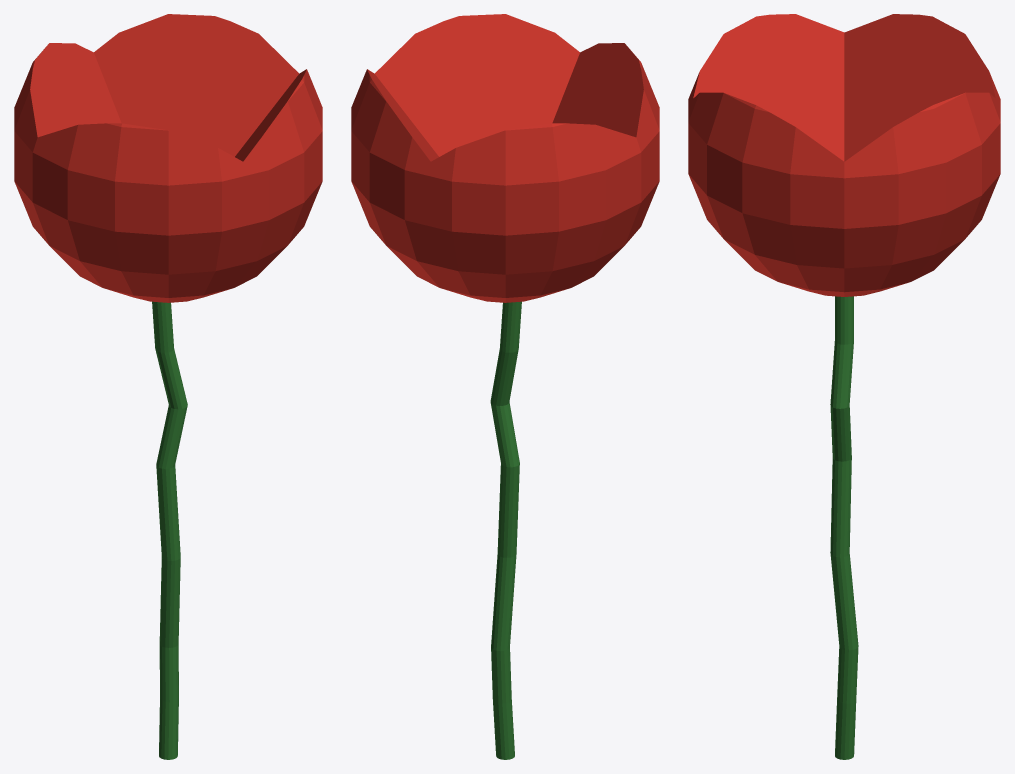
File: Flower.fbx
3 renders of one model, left to right at view 1: azimuth 30°, elevation 25°; view 2: azimuth 150°, elevation 25°; view 3: azimuth 270°, elevation 25°, orthographic.
Parts seen in each view (by area): view 1: Flower; view 2: Flower; view 3: Flower.
Boxes of the visible parts, x1=… form: Flower: x1=14, y1=14, x2=322, y2=759; Flower: x1=351, y1=14, x2=659, y2=759; Flower: x1=688, y1=14, x2=1000, y2=759.
Bounding box in the file's own units: 9.85 × 23.8 × 9.7.
